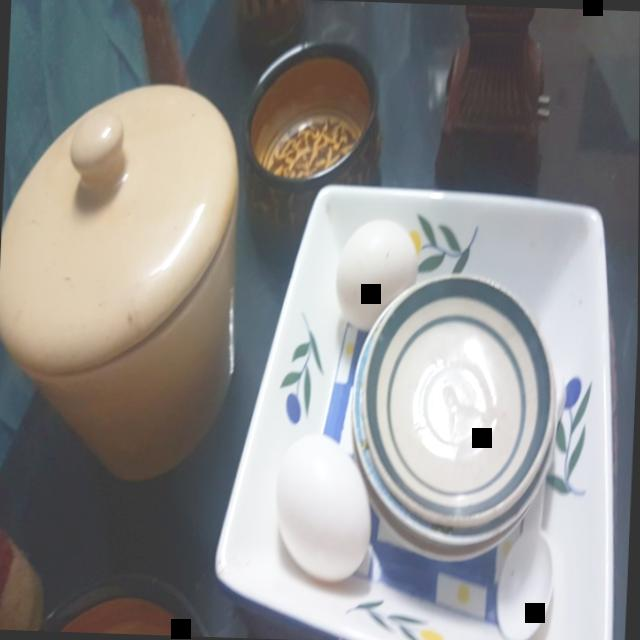eggs: (264, 428, 383, 591), (317, 208, 431, 334)
